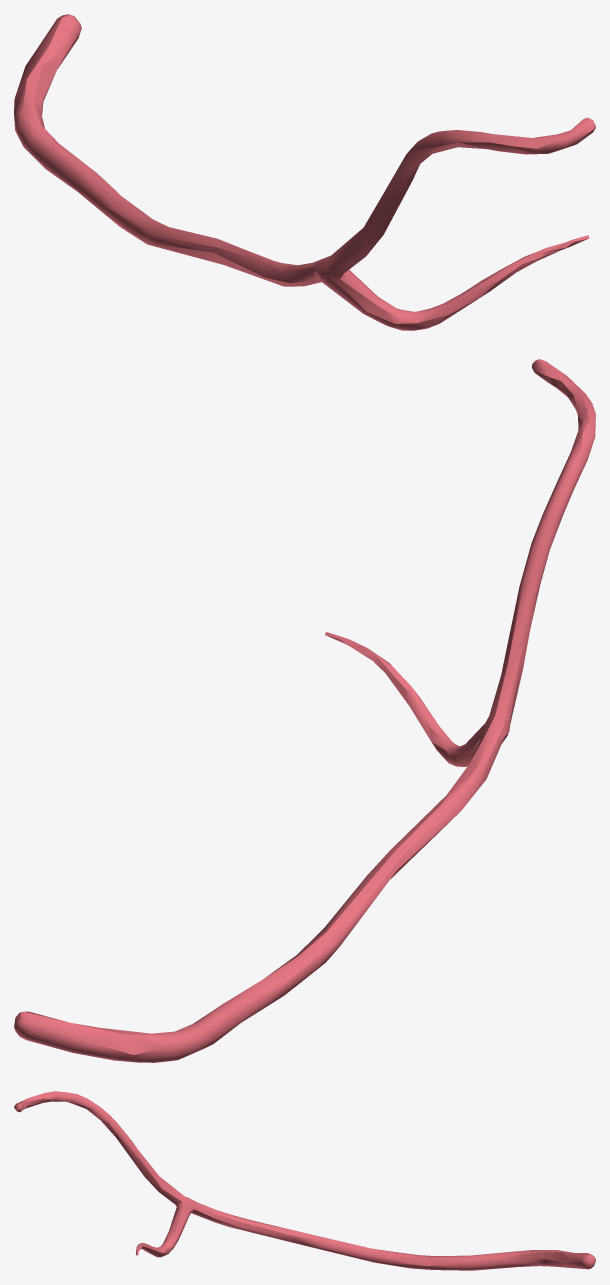
The model's file is fma50344_fj1690m.glb.
3 renders of one model, top to bottom at view 1: azimuth 30°, elevation 25°; view 2: azimuth 150°, elevation 25°; view 3: azimuth 270°, elevation 25°, orthographic. The views are drawn at different scales.
Visible parts, largest first — view 1: FMA50344_FJ1690M; view 2: FMA50344_FJ1690M; view 3: FMA50344_FJ1690M.
Boxes of the visible parts, x1,y1,x2,y2 form: FMA50344_FJ1690M: (14,14,595,330); FMA50344_FJ1690M: (14,359,595,1062); FMA50344_FJ1690M: (14,1091,595,1270).
Bounding box in the file's own units: 0.0151 × 0.022 × 0.0602.
